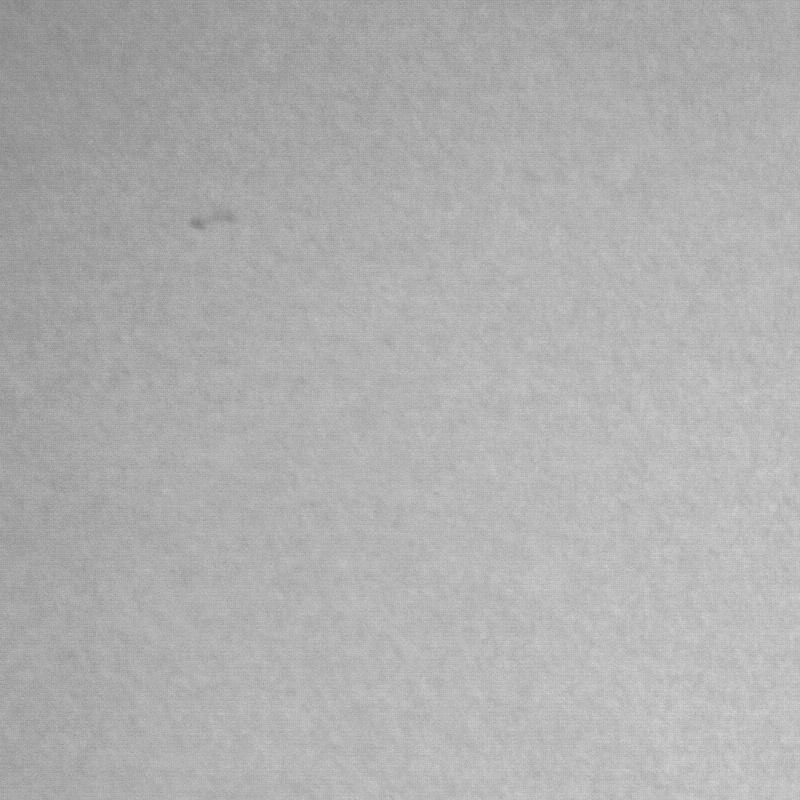defect: (187, 206, 236, 234)
